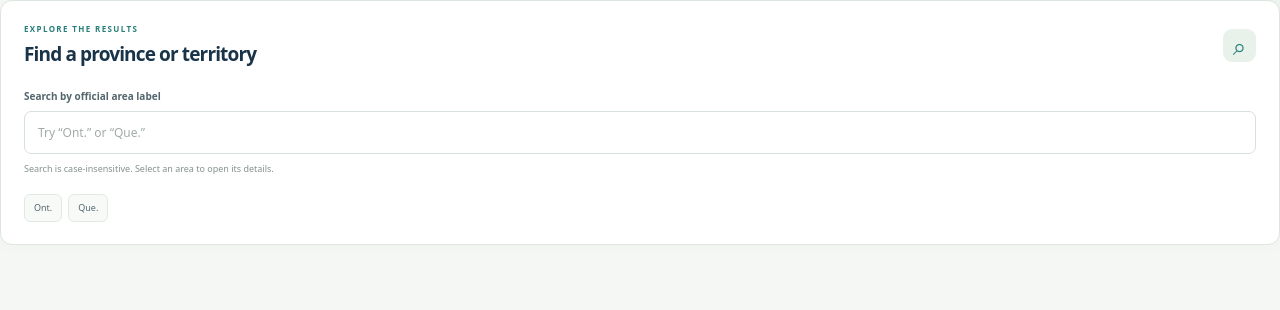
Test: AreaSearch › shows a clear message when there are no matches
In the search field labelled "Search by official area label": (640, 132) 24,111 -> 1256,154, type "Atlantic"
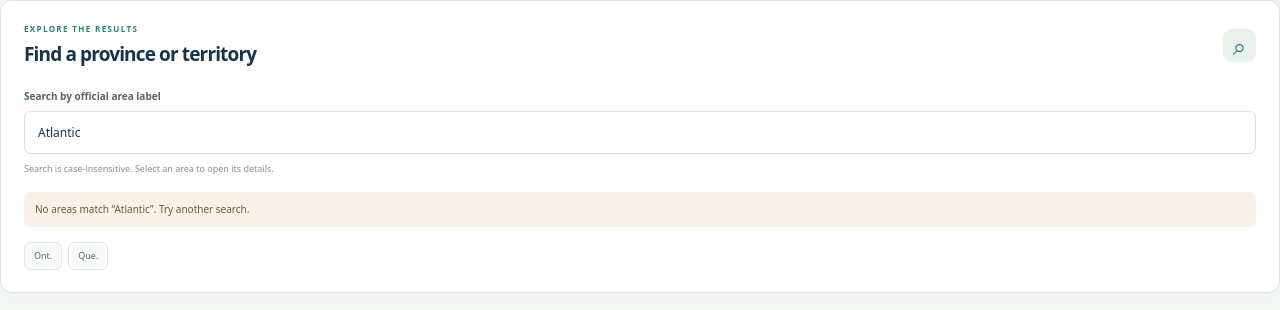
Expected: the message shows "No areas match “Atlantic”.", 24,192 -> 1256,226
